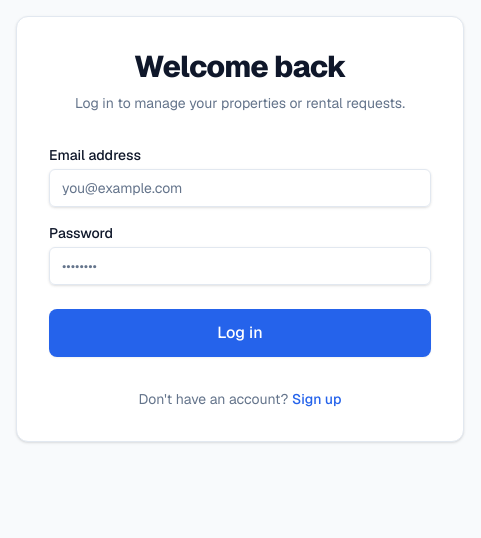
Scenario: LoginPage component › displays API error alert when authentication fails
In the field labelled "Email address": (240, 188) [49,169,431,207], type "wrong@example.com"
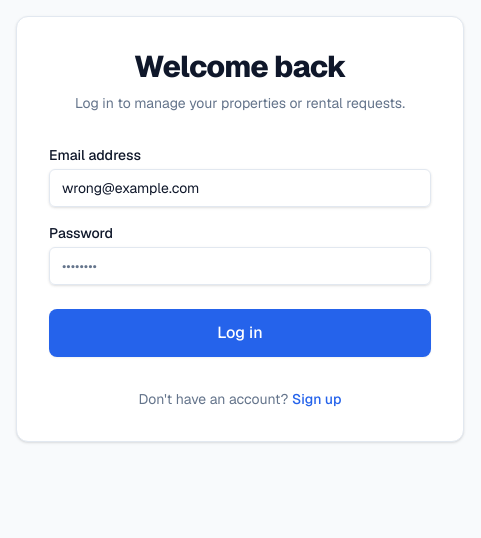
In the password field labelled "Password": (240, 266) [49,247,431,285], type "wrongpass"
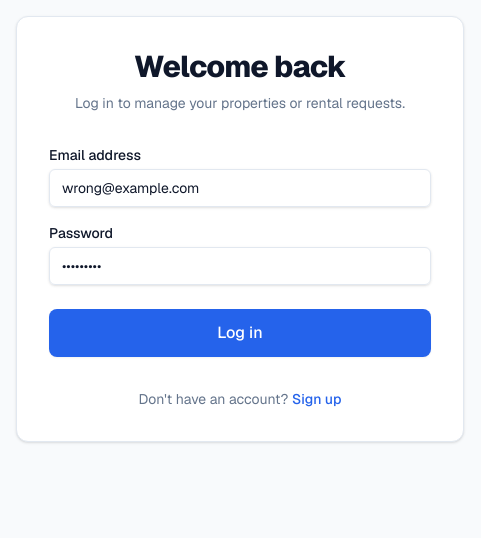
Click the button "Log in": (240, 333) [49,309,431,357]
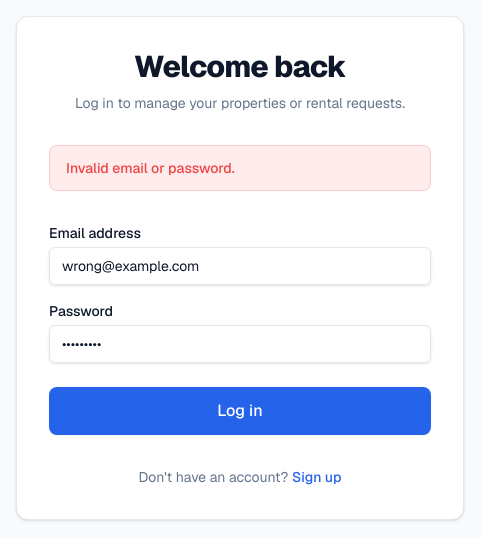
Result: the message reads "Invalid email or password." at [66,159,235,177]
